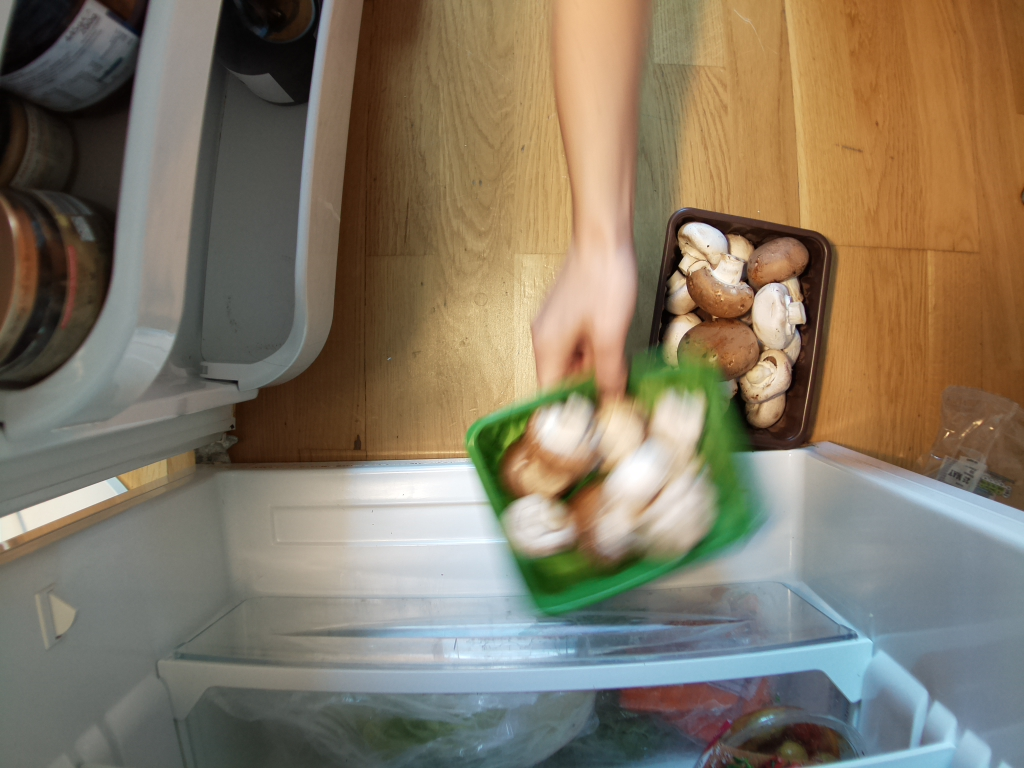mushrooms: (471, 376, 769, 583), (669, 218, 813, 428)
